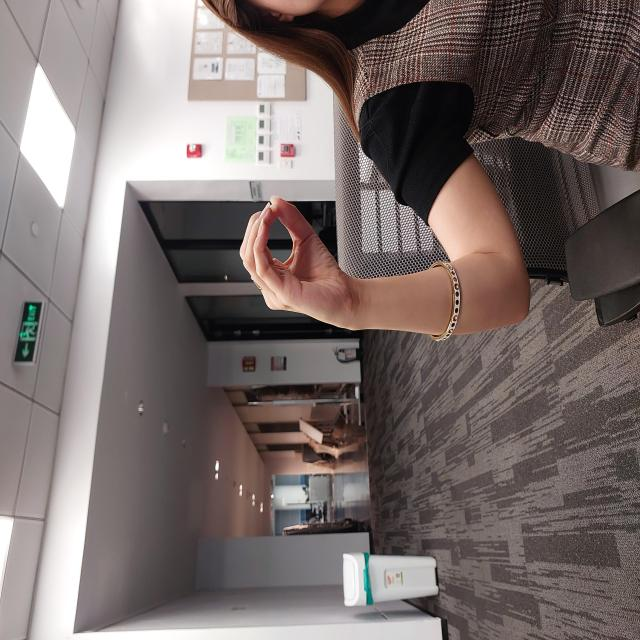O: (308, 238, 446, 362)
